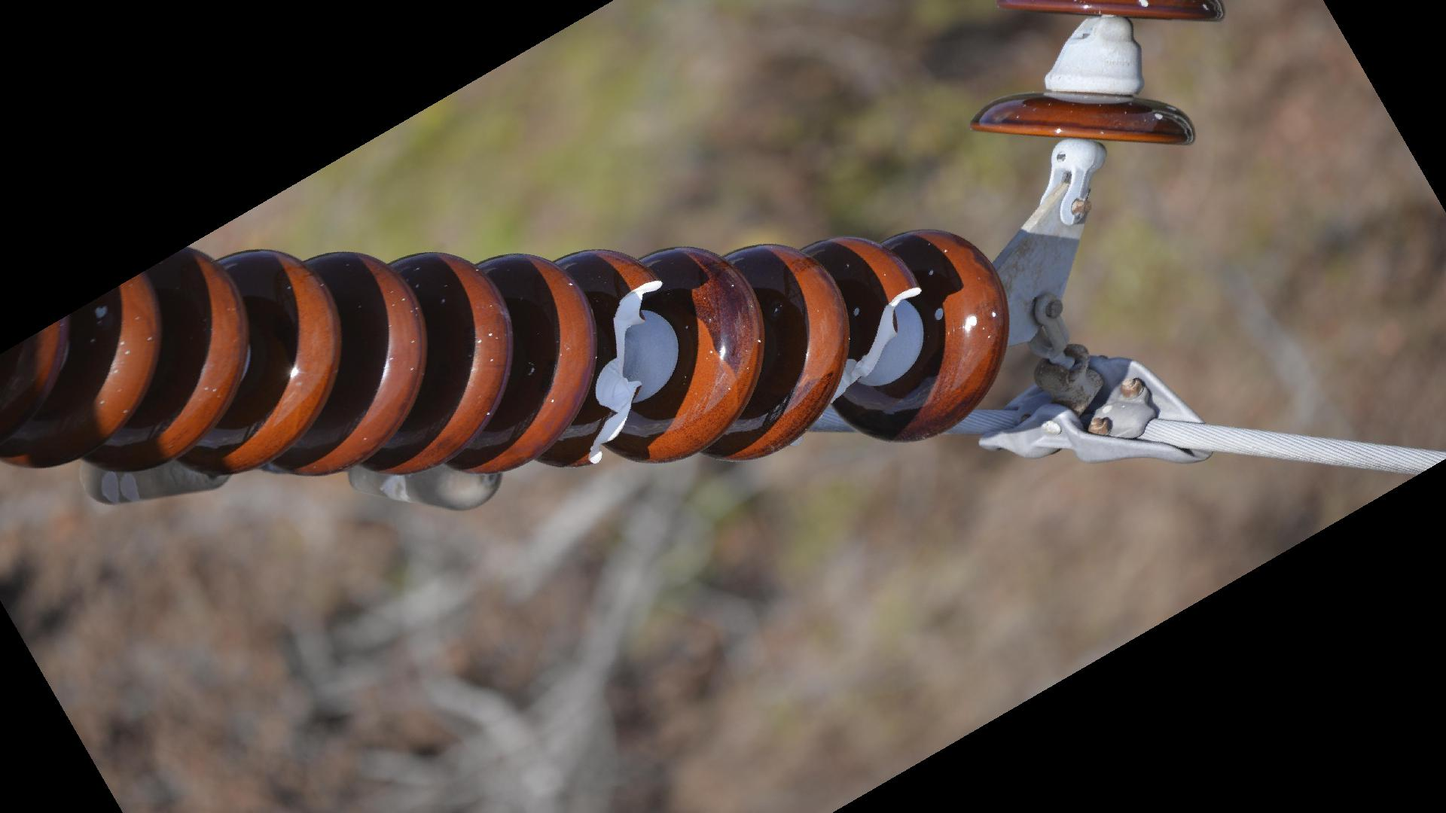insulator: (1, 222, 1018, 485), (967, 1, 1235, 153)
insulator_breakage: (581, 275, 670, 468), (825, 279, 930, 406)
